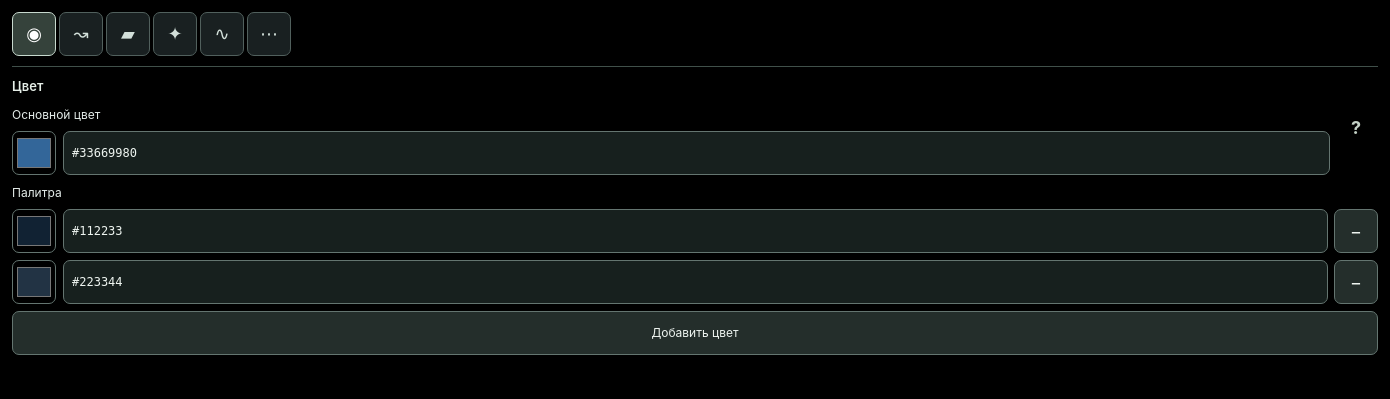
Test: keeps alpha on picker changes and rejects invalid color text without changing the recipe
Type "#abcdef" into the colour field named "Основной цвет — палитра". click: (34, 153)
box: left=12, top=131, right=56, bottom=175
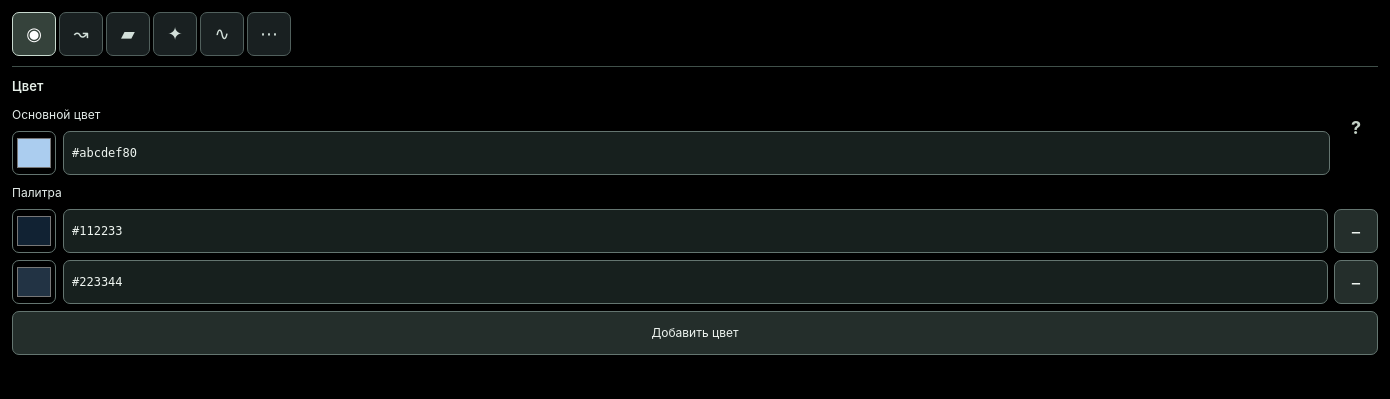
Expected: the field named "Основной цвет — HEX" holds "#abcdef80"
Replace the text in the field named "Основной цвет — HEX" with "javascript:alert(1)". click: (696, 153)
box: left=63, top=131, right=1330, bottom=175
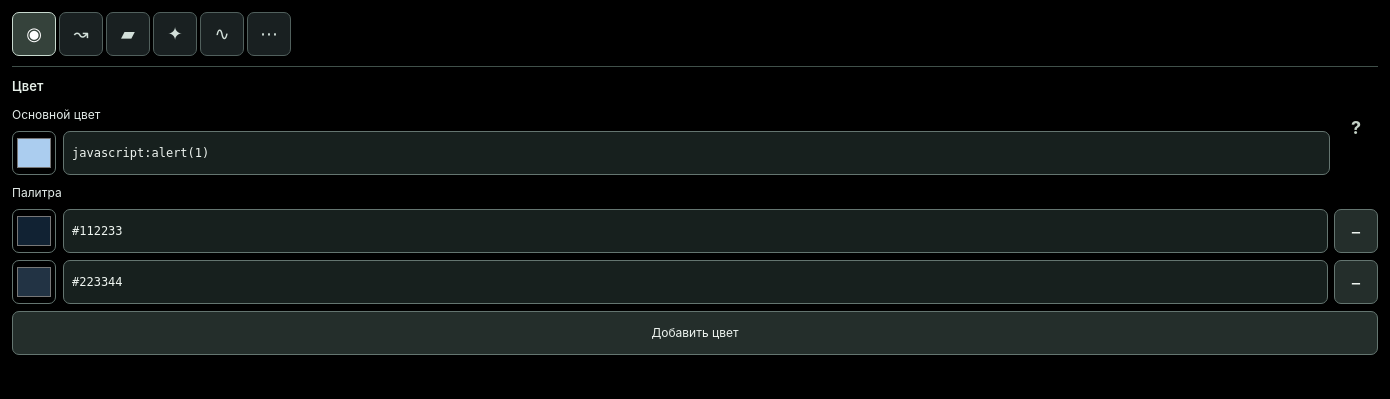
Leave the field named "Основной цвет — HEX", box left=63, top=131, right=1330, bottom=175
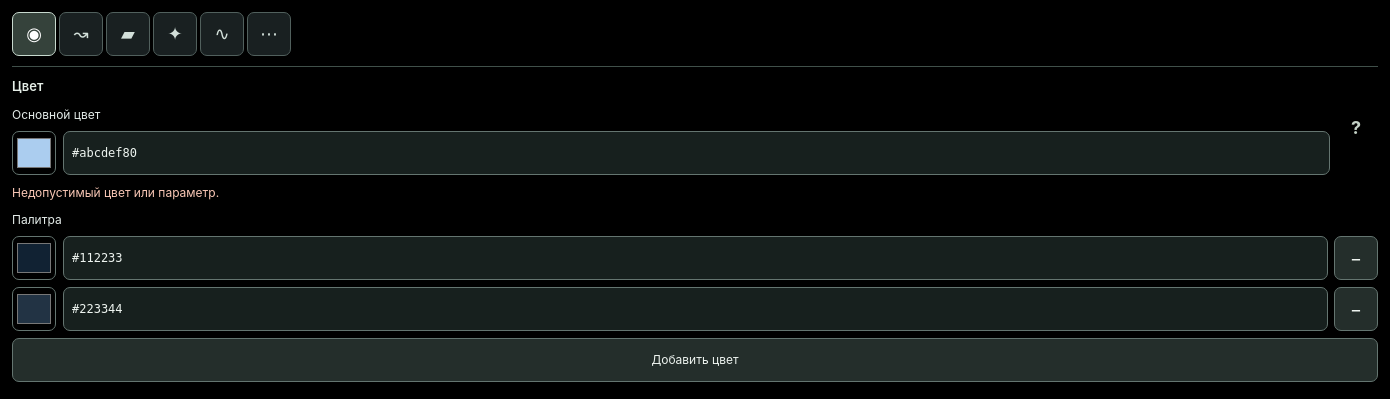
Expected: the field named "Основной цвет — HEX" holds "#abcdef80", left=63, top=131, right=1330, bottom=175
Expected: the message shows "Недопустимый цвет", left=12, top=185, right=219, bottom=200
